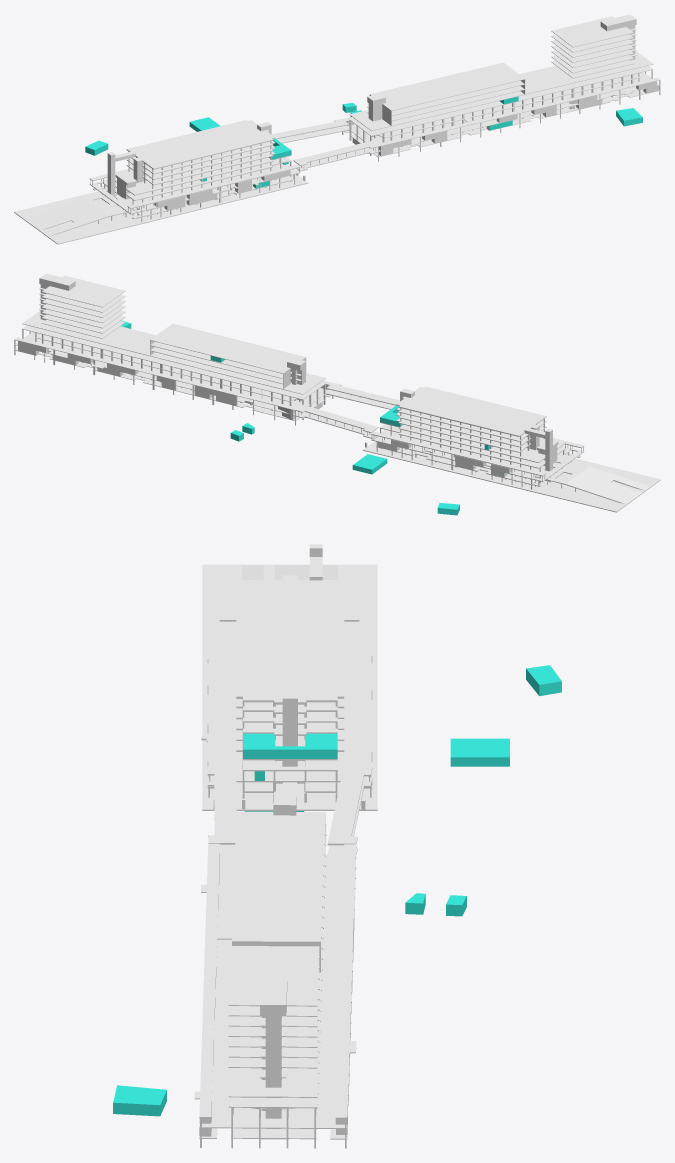
3 views of the same model, one above another, from view 1: azimuth 30°, elevation 25°; view 2: azimuth 150°, elevation 25°; view 3: azimuth 270°, elevation 25° (orthographic). The views are drawn at different scales.
Parts seen in each view (by area): view 1: Extrusion (×23), Brep (×13); view 2: Extrusion (×21), Brep (×13); view 3: Brep (×8), Extrusion (×22).
Part boxes in pixels (bbox=[...]): Extrusion (×23): bbox=[14, 16, 660, 244]; Brep (×13): bbox=[85, 62, 660, 216]; Extrusion (×21): bbox=[14, 275, 660, 512]; Brep (×13): bbox=[14, 323, 589, 484]; Brep (×8): bbox=[194, 575, 372, 1128]; Extrusion (×22): bbox=[113, 564, 561, 1139].
Size of what is drawn, in the model's own units: 403 by 47.82 by 130.
